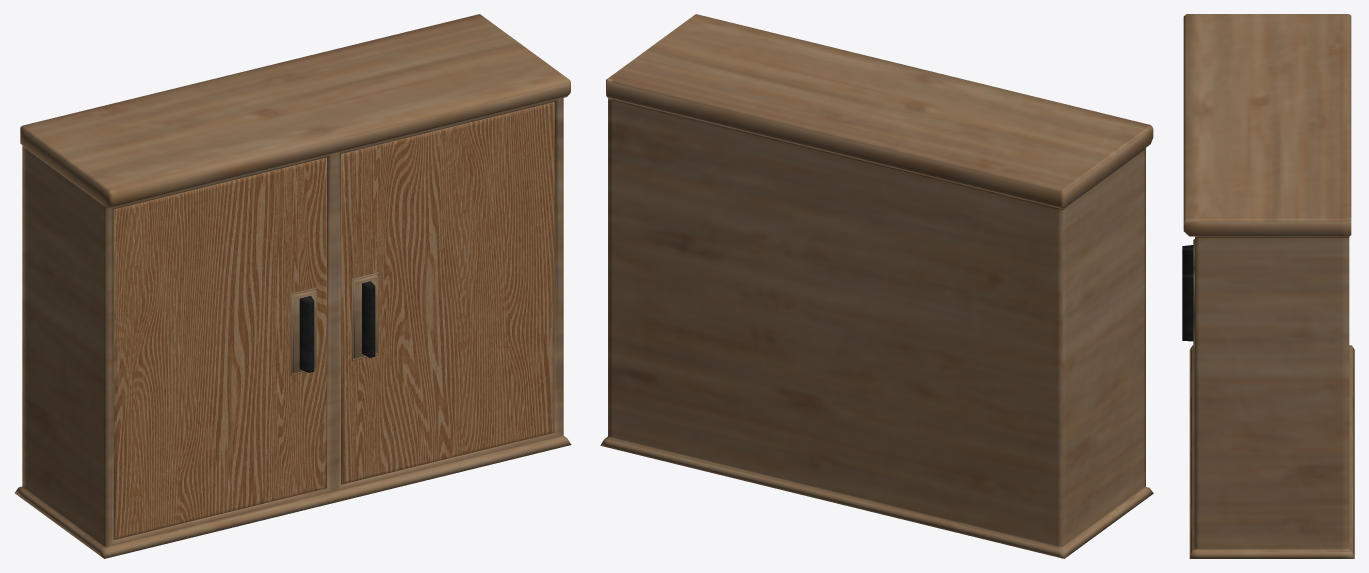
File: wall_cabinet.glb
3 renders of one model, left to right at view 1: azimuth 30°, elevation 25°; view 2: azimuth 150°, elevation 25°; view 3: azimuth 270°, elevation 25°, orthographic. The views are drawn at different scales.
Parts seen in each view (by area): view 1: WallCabinet; view 2: WallCabinet; view 3: WallCabinet.
Boxes of the visible parts, <box> form: WallCabinet: <box>14,14,571,558</box>; WallCabinet: <box>600,14,1153,558</box>; WallCabinet: <box>1182,14,1354,558</box>.
Size of the model in its own units: 0.965 by 0.7272 by 0.3363.
Materials: 3 (3 with a texture image).
